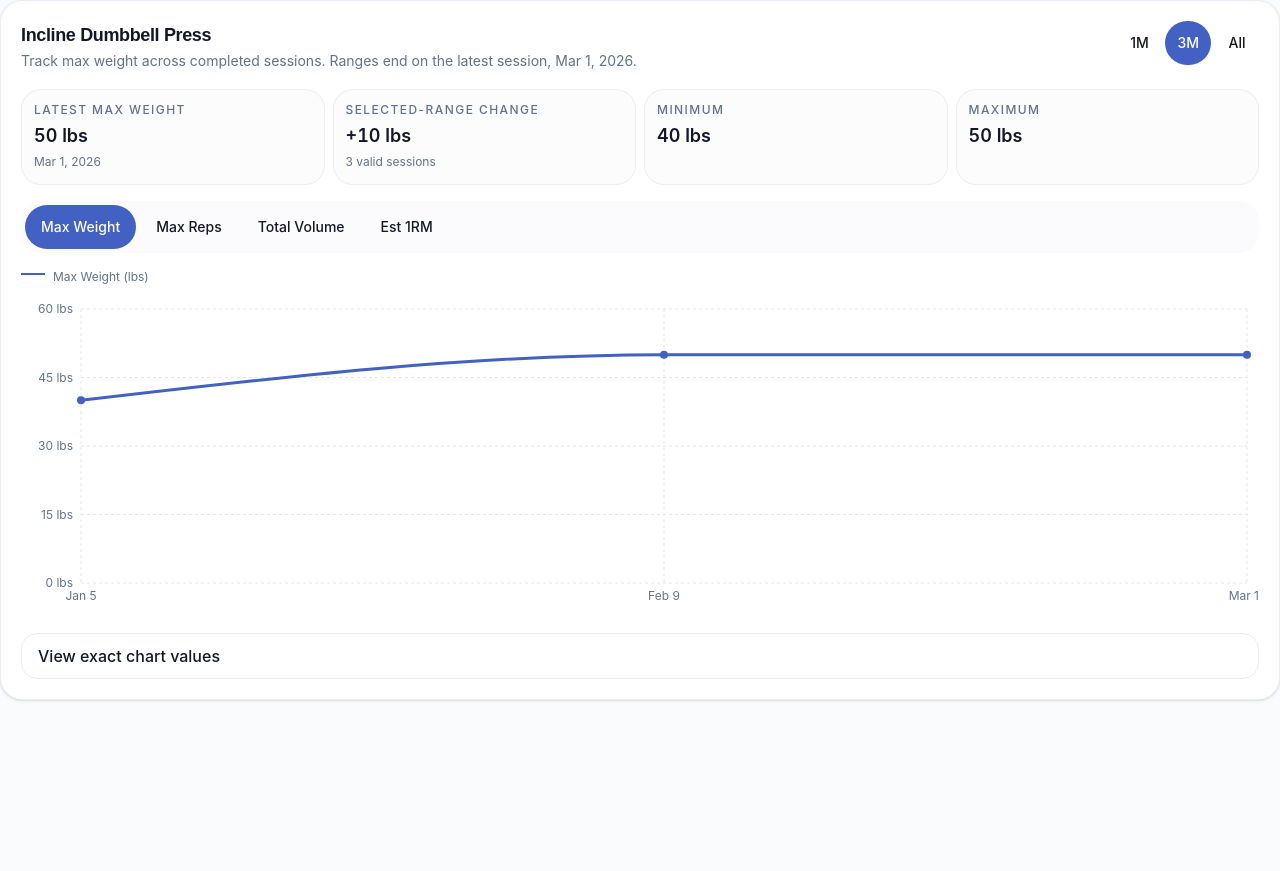
Scenario: ExerciseTrendChart › exposes exact values and keyboard-operable point inspection
This screenshot has width=1280, height=871.
Click the heading "View exact chart values" at (129, 656), box [38,646,220,666]
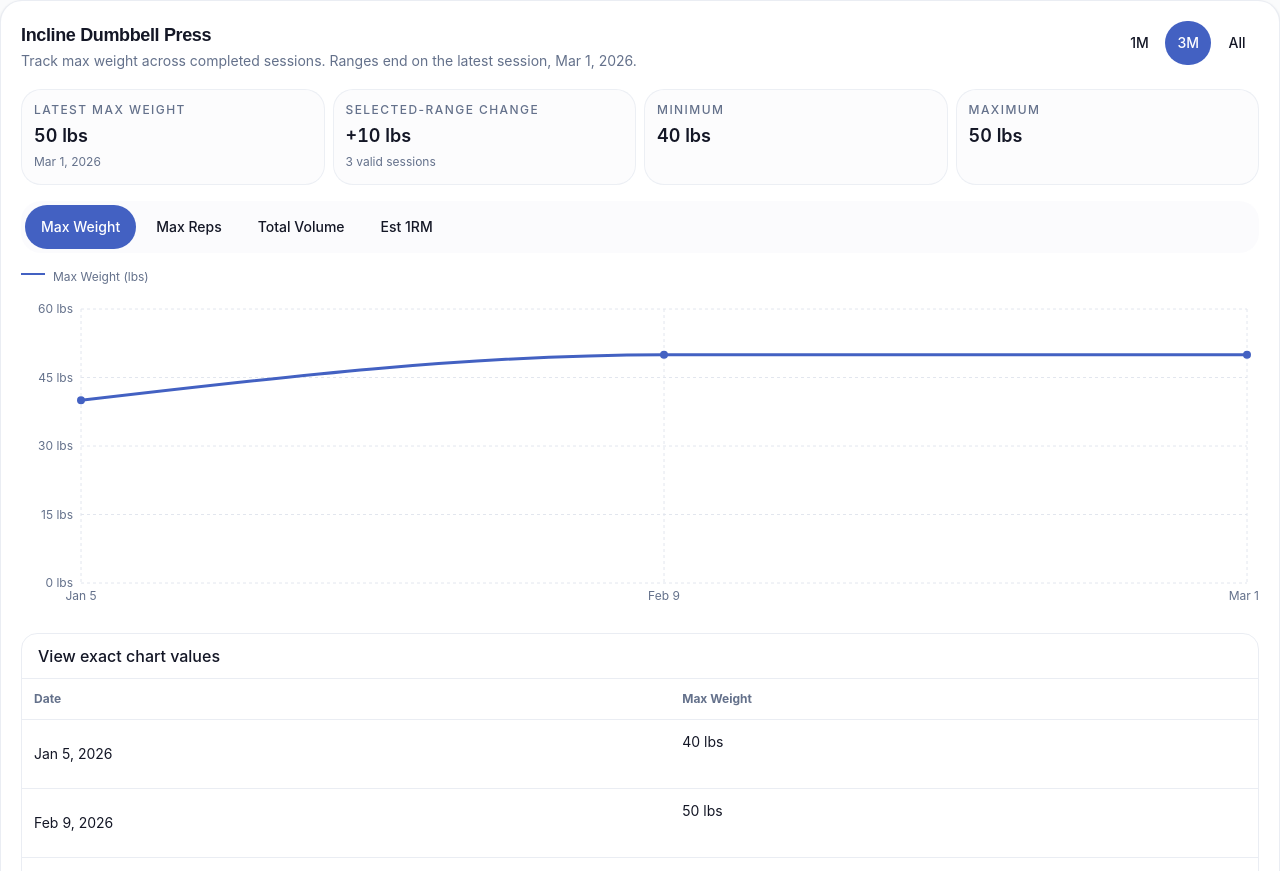
Click the button named "Inspect Jan 5, 2026" at (73, 754), box [34,732,113,776]
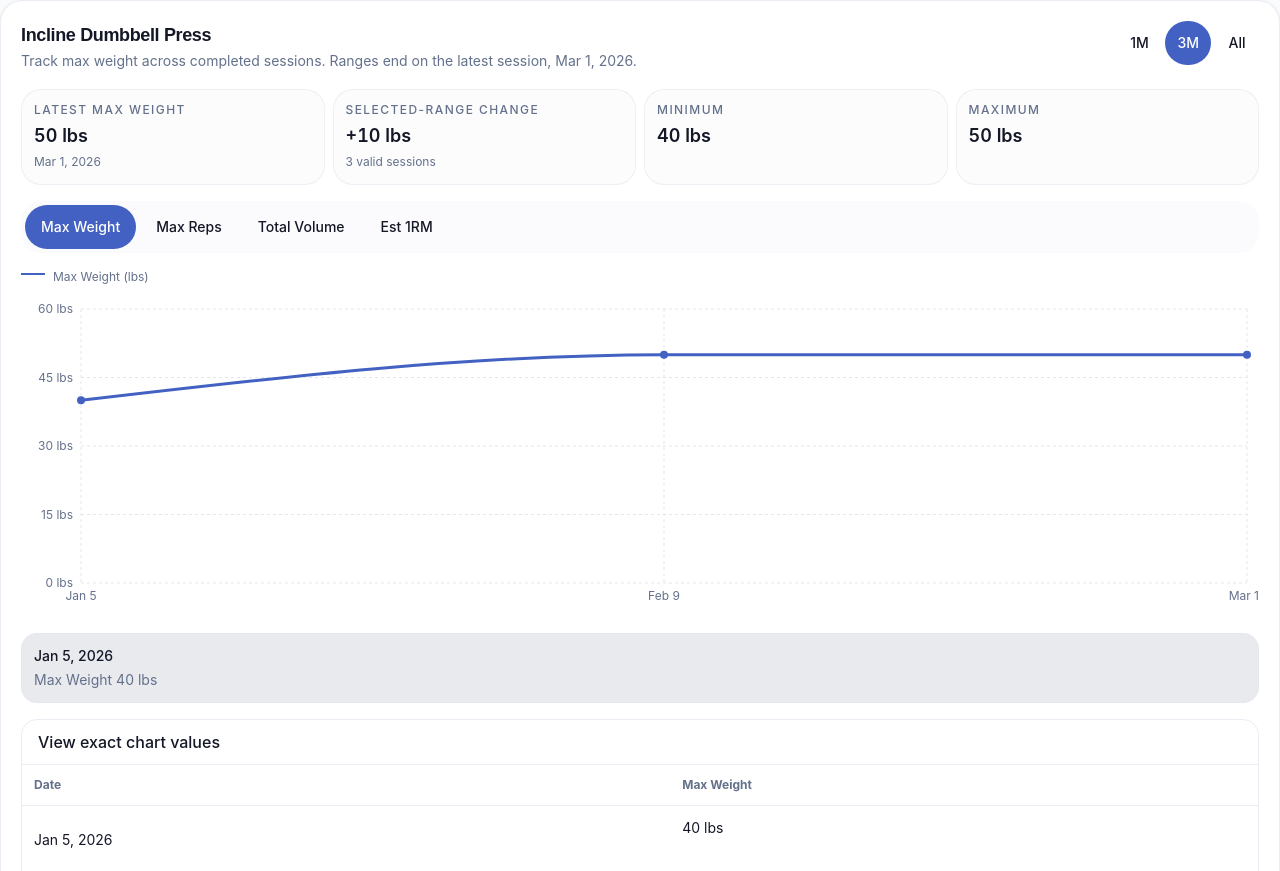
Expected: the element named "Selected chart point" reads "Jan 5, 2026 Max Weight 40 lbs", [21,633,1259,703]
